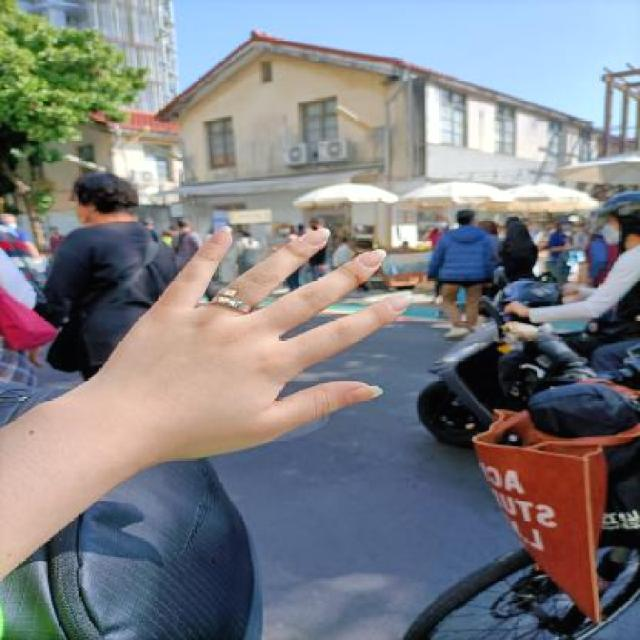no_glove: (70, 213, 422, 470)
